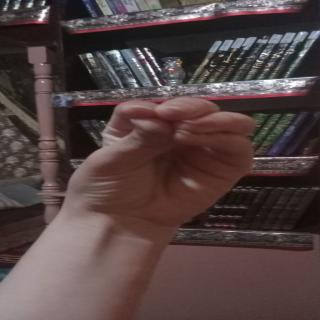HA: (61, 97, 272, 229)
